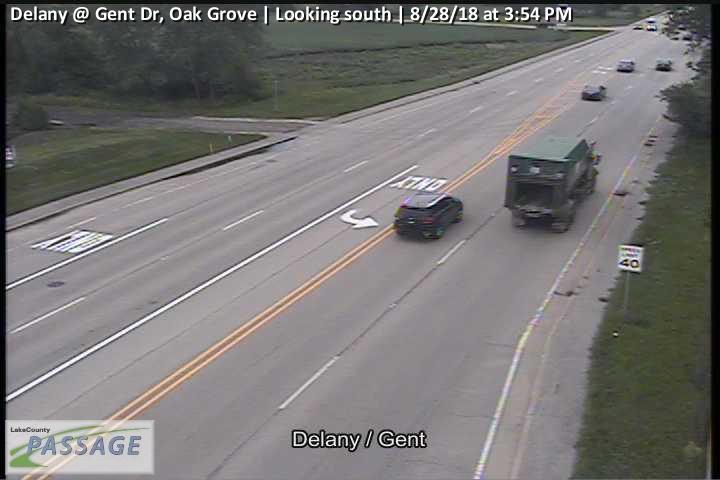Sedan: (581, 84, 608, 100), (617, 59, 634, 73), (656, 58, 673, 70)
Truck: (504, 135, 602, 233), (392, 192, 463, 237)
